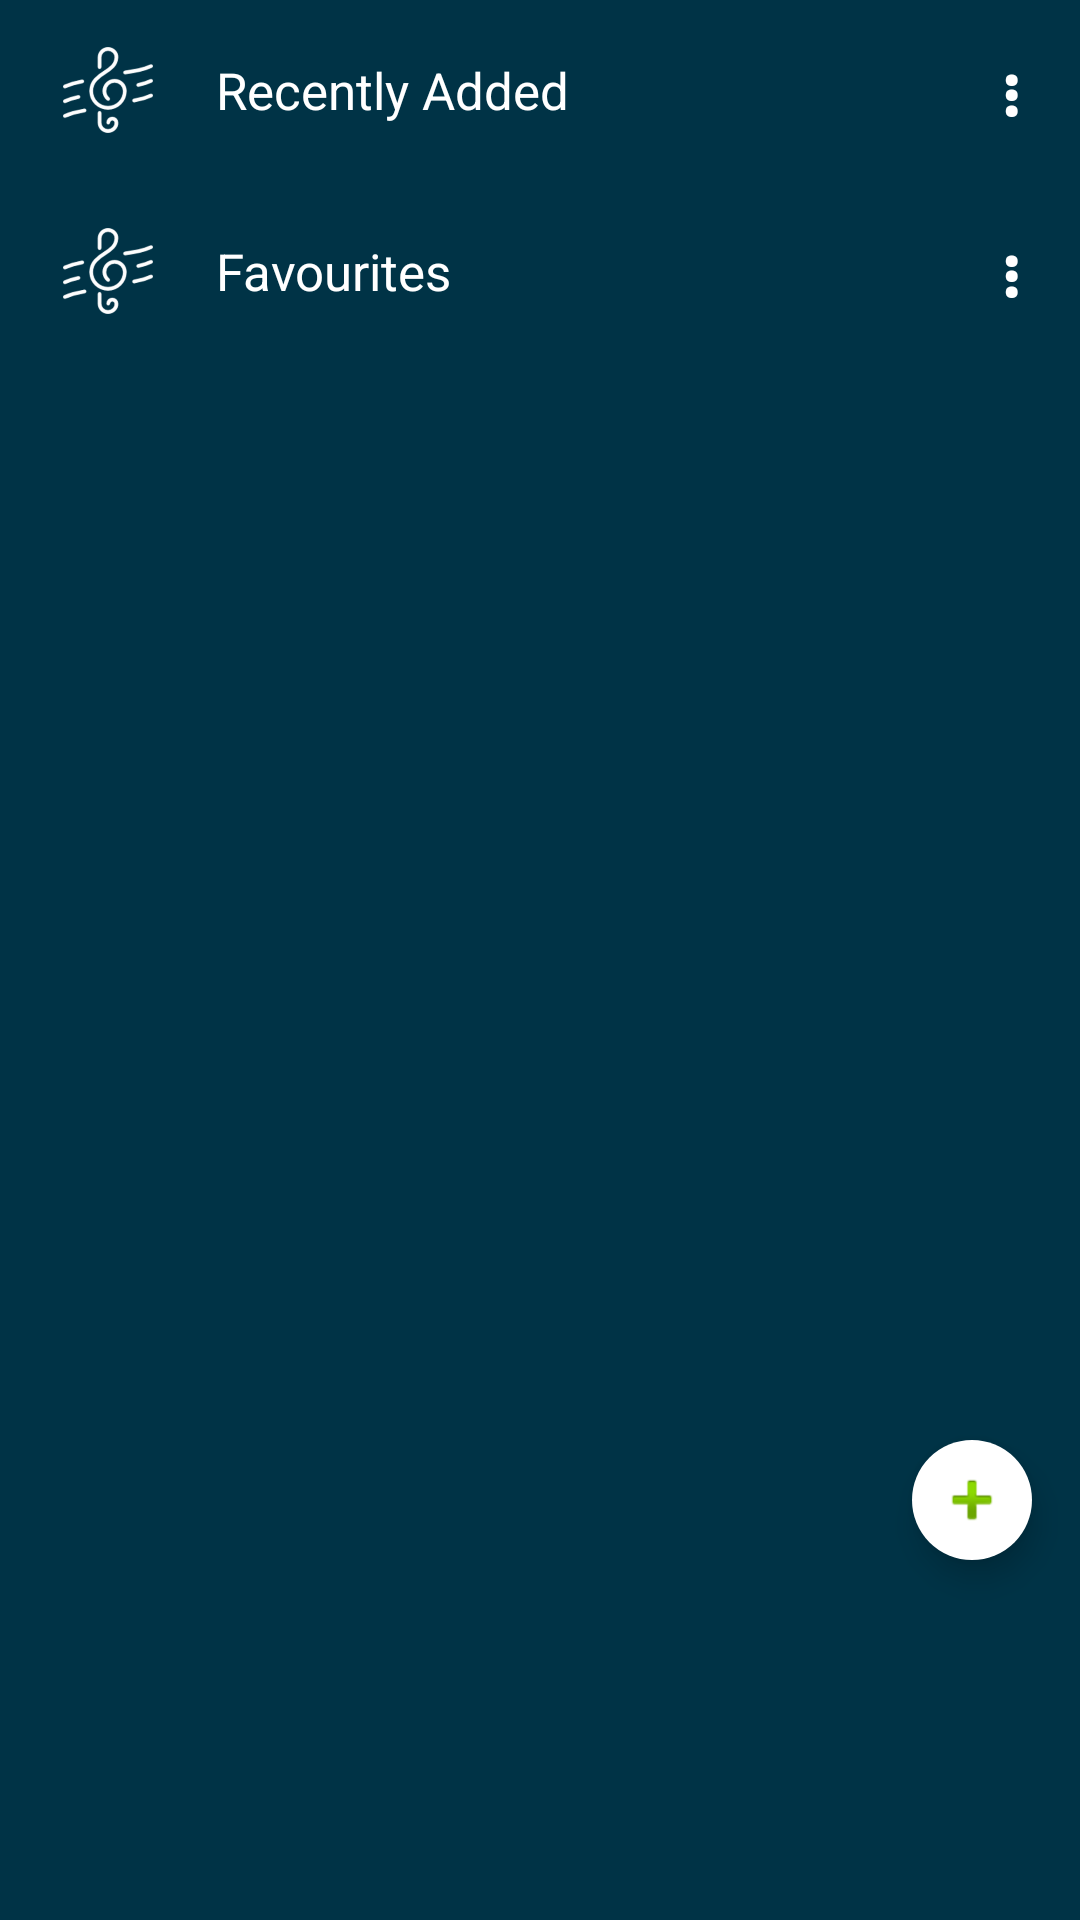

Where to tap for icons on this 1080 × 1920 app screen, as [x,y]:
add: [972,1500]
playlist: [108,90], [108,271]
